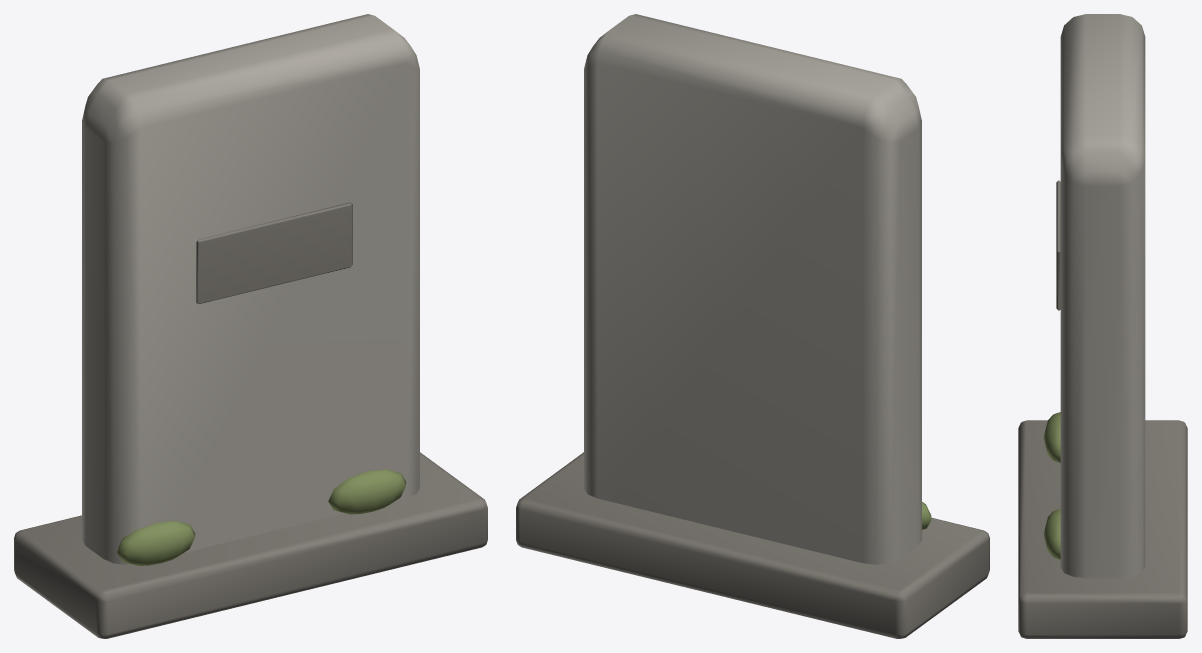
The model's file is gravestone.glb.
The picture shows the model from 3 angles, left to right: view 1: azimuth 30°, elevation 25°; view 2: azimuth 150°, elevation 25°; view 3: azimuth 270°, elevation 25°; orthographic projection. The views are drawn at different scales.
Visible parts, largest first — view 1: LH_gravestone; view 2: LH_gravestone; view 3: LH_gravestone.
Part boxes in pixels (x1,y1,x2,y2): LH_gravestone: [14, 14, 487, 638]; LH_gravestone: [516, 14, 989, 638]; LH_gravestone: [1018, 14, 1187, 638].
Size of the model in its own units: 0.5 by 0.6222 by 0.2.
